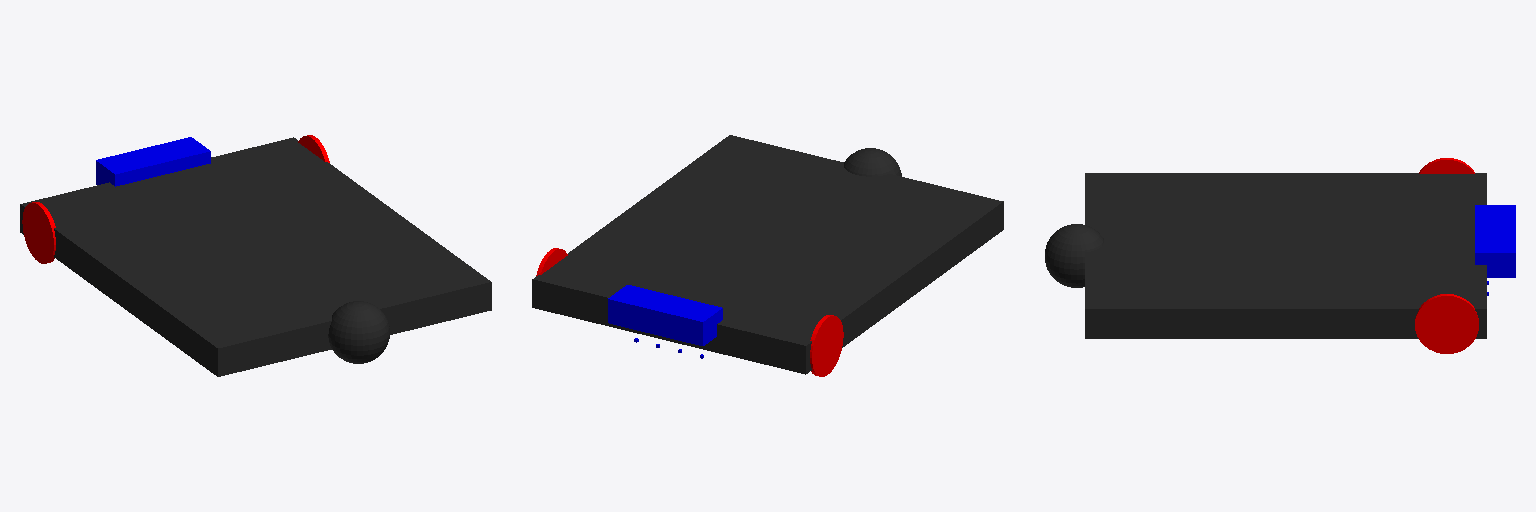
robot.urdf — wheel_robot_simple:
<robot name="wheel_robot_simple">
  <material name="grey">
    <color rgba="0.2 0.2 0.2 1.0"/>
  </material>
  <material name="red">
    <color rgba="1.0 0.0 0.0 1.0"/>
  </material>
  <material name="blue">
    <color rgba="0.0 0.0 1.0 1.0"/>
  </material> 

  <link name="base_link"/>

  <joint name="body_joint" type="fixed">
    <origin xyz="-0.6 -0.8 0.4" rpy="0.0 0.0 1.5708"/>
    <parent link="base_link"/>
    <child link="body_link"/>
  </joint>

  <link name="body_link">
    <visual>
      <geometry>
        <box size="0.25 0.2 0.02"/>
      </geometry>
      <material name="grey"/>
    </visual>
    <collision>
      <geometry>
        <box size="0.25 0.2 0.02"/>
      </geometry>
    </collision>
    <inertial>
      <mass value="0.7"/>
      <inertia ixx="0.008333333" ixy="0.0" ixz="0.0" iyy="0.014166667" iyz="0.0" izz="0.020833333"/>
    </inertial>
  </link>

  <joint name="back_ball_joint" type="fixed">
    <origin xyz="-0.13 0.0 0.0" rpy="0.0 0.0 0.0"/>
    <parent link="body_link"/>
    <child link="back_ball_link"/>
  </joint>

  <link name="back_ball_link">
    <visual>
      <geometry>
        <sphere radius="0.02"/>
      </geometry>
      <material name="grey"/>
    </visual>
    <collision>
      <geometry>
        <sphere radius="0.02"/>
      </geometry>
    </collision>
    <inertial>
      <mass value="0.095"/>
      <inertia ixx="0.0001" ixy="0.0" ixz="0.0" iyy="0.0001" iyz="0.0" izz="0.0001"/>
    </inertial>
  </link>

  <link name="sholder_base_link">
    <visual>
      <geometry>
        <mesh filename="file://[local-path]/ros2_ws/src/arm_detecting_controll/models/maze/DAE/sholder_base.dae" scale="1 1 1"/>
      </geometry>
      <material name="grey"/>
    </visual>
    <collision>
      <geometry>
        <mesh filename="file://[local-path]/ros2_ws/src/arm_detecting_controll/models/maze/STL/sholder_base.stl" scale="1 1 1"/>
      </geometry>
    </collision>
    <inertial>
      <mass value="0.060"/>
      <inertia ixx="0.0001" ixy="0.0" ixz="0.0" iyy="0.0001" iyz="0.0" izz="0.0001"/>
    </inertial>
  </link>

  <link name="sholder_link">
    <visual>
      <geometry>
        <mesh filename="file://[local-path]/ros2_ws/src/arm_detecting_controll/models/maze/DAE/sholder_link.dae" scale="1 1 1"/>
      </geometry>
      <material name="grey"/>
    </visual>
    <collision>
      <geometry>
        <mesh filename="file://[local-path]/ros2_ws/src/arm_detecting_controll/models/maze/STL/sholder_link.stl" scale="1 1 1"/>
      </geometry>
    </collision>
    <inertial>
      <mass value="0.060"/>
      <inertia ixx="0.0001" ixy="0.0" ixz="0.0" iyy="0.0001" iyz="0.0" izz="0.0001"/>
    </inertial>
  </link>

  <link name="elbow_link">
    <visual>
      <geometry>
        <mesh filename="file://[local-path]/ros2_ws/src/arm_detecting_controll/models/maze/DAE/elbow_link.dae" scale="1 1 1"/>
      </geometry>
      <material name="grey"/>
    </visual>
    <collision>
      <geometry>
        <mesh filename="file://[local-path]/ros2_ws/src/arm_detecting_controll/models/maze/STL/elbow_link.stl" scale="1 1 1"/>
      </geometry>
    </collision>
    <inertial>
      <mass value="0.220"/>
      <inertia ixx="0.0001" ixy="0.0" ixz="0.0" iyy="0.0001" iyz="0.0" izz="0.0001"/>
    </inertial>
  </link>

  <!-- ====================== -->
  <!--        JOINTS          -->
  <!-- ====================== -->

  <joint name="sholder_joint" type="fixed">
    <origin xyz="0 0 0.01" rpy="0.0 0.0 -1.5708"/>
    <parent link="body_link"/>
    <child link="sholder_base_link"/>
  </joint>

  <joint name="sholder_arm" type="revolute">
    <origin xyz="0 0.02 0.032" rpy="0.0 0.0 0.0"/>
    <parent link="sholder_base_link"/>
    <child link="sholder_link"/>
    <axis xyz="0 0 1"/>
    <limit lower="-1.5708" upper="1.5708" effort="20.0" velocity="10"/>
    <dynamics damping="0.1"/>
  </joint>

  <joint name="elbow_arm" type="revolute">
    <origin xyz="0 0 0.065" rpy="0.0 0.0 0.0"/>
    <parent link="sholder_link"/>
    <child link="elbow_link"/>
    <axis xyz="1 0 0"/>
    <limit lower="-3.1416" upper="1.8326" effort="20.0" velocity="10"/>
    <dynamics damping="0.1"/>
  </joint>

  <joint name="left_wheel_joint" type="continuous">
    <origin xyz="0.1 0.1 -0.0" rpy="-1.5707 0.0 0.0"/>
    <parent link="body_link"/>
    <child link="left_wheel_link"/>
    <axis xyz="0.0 0.0 1.0"/>
  </joint>

  <link name="left_wheel_link">
    <visual>
      <geometry>
        <cylinder radius="0.02" length="0.003"/>
      </geometry>
      <material name="red"/>
    </visual>
    <collision>
      <geometry>
        <cylinder radius="0.02" length="0.003"/>
      </geometry>
    </collision>
    <inertial>
      <mass value="0.120"/>
      <inertia ixx="0.000285867" ixy="0.0" ixz="0.0" iyy="0.000285867" iyz="0.0" izz="0.0005184"/>
    </inertial>
  </link>

  <joint name="right_wheel_joint" type="continuous">
    <origin xyz="0.1 -0.1 -0.0" rpy="1.5707 0.0 0.0"/>
    <parent link="body_link"/>
    <child link="right_wheel_link"/>
    <axis xyz="0.0 0.0 -1.0"/>
  </joint>

  <link name="right_wheel_link">
    <visual>
      <geometry>
        <cylinder radius="0.02" length="0.003"/>
      </geometry>
      <material name="red"/>
    </visual>
    <collision>
      <geometry>
        <cylinder radius="0.02" length="0.003"/>
      </geometry>
    </collision>
    <inertial>
      <mass value="0.120"/>
      <inertia ixx="0.000285867" ixy="0.0" ixz="0.0" iyy="0.000285867" iyz="0.0" izz="0.0005184"/>
    </inertial>
  </link>
  <gazebo>
    <plugin name="diff_drive" filename="libgazebo_ros_diff_drive.so ">
      <ros>
        <namespace>/wheel_robot_simple</namespace>
        <remapping>cmd_vel:=cmd_vel</remapping>
        <remapping>odom:=odom</remapping>
      </ros>
      <left_joint>left_wheel_joint</left_joint>
      <right_joint>right_wheel_joint</right_joint>
      <wheel_separation>0.2</wheel_separation>
      <wheel_diameter>0.072</wheel_diameter>
      <max_wheel_torque>20</max_wheel_torque>
      <max_wheel_acceleration>1.0</max_wheel_acceleration>
      <publish_odom>true</publish_odom>
      <publish_odom_tf>true</publish_odom_tf>
      <publish_wheel_tf>true</publish_wheel_tf>
      <update_rate>30</update_rate>
      <odometry_frame>odom</odometry_frame>
      <robot_base_frame>base_link</robot_base_frame>
    </plugin>
  </gazebo>

  <!-- ここからカメラ追加 -->

  <joint name="camera_joint" type="fixed">
    <origin xyz="0.13 0 0.01" rpy="0 0 0"/>
    <parent link="body_link"/>
    <child link="camera_link"/>
  </joint>

  <joint name="linetrace_joint2" type="fixed">
    <origin xyz="0.125 0.024 -0.015" rpy="0 1.5708 0"/>
    <parent link="body_link"/>
    <child link="linetrace_link2"/>
  </joint>
  <joint name="linetrace_joint3" type="fixed">
    <origin xyz="0.125 0.008 -0.015" rpy="0 1.5708 0"/>
    <parent link="body_link"/>
    <child link="linetrace_link3"/>
  </joint>

  <joint name="linetrace_joint4" type="fixed">
    <origin xyz="0.125 -0.008 -0.015" rpy="0 1.5708 0"/>
    <parent link="body_link"/>
    <child link="linetrace_link4"/>
  </joint>
  <joint name="linetrace_joint5" type="fixed">
    <origin xyz="0.125 -0.024 -0.015" rpy="0 1.5708 0"/>
    <parent link="body_link"/>
    <child link="linetrace_link5"/>
  </joint>


  <link name="camera_link">
    <visual>
      <geometry>
        <box size="0.025 0.07 0.017"/>
      </geometry>
      <material name="blue"/>
    </visual>
    <collision>
      <geometry>
        <box size="0.025 0.07 0.017"/>
      </geometry>
    </collision>
    <inertial>
      <mass value="0.070"/>
      <inertia ixx="0.0001" ixy="0.0" ixz="0.0" iyy="0.0001" iyz="0.0" izz="0.0001"/>
    </inertial>
  </link>

  <link name="linetrace_link2">
    <visual>
      <geometry>
        <box size="0.002 0.002 0.002"/>
      </geometry>
      <material name="blue"/>
    </visual>
    <collision>
      <geometry>
        <box size="0.002 0.002 0.002"/>
      </geometry>
    </collision>
    <inertial>
      <mass value="0.0001"/>
      <inertia ixx="0.0001" ixy="0.0" ixz="0.0" iyy="0.0001" iyz="0.0" izz="0.0001"/>
    </inertial>
  </link>
  
  <link name="linetrace_link3">
    <visual>
      <geometry>
        <box size="0.002 0.002 0.002"/>
      </geometry>
      <material name="blue"/>
    </visual>
    <collision>
      <geometry>
        <box size="0.002 0.002 0.002"/>
      </geometry>
    </collision>
    <inertial>
      <mass value="0.0001"/>
      <inertia ixx="0.0001" ixy="0.0" ixz="0.0" iyy="0.0001" iyz="0.0" izz="0.0001"/>
    </inertial>
  </link>
  
  <link name="linetrace_link4">
    <visual>
      <geometry>
        <box size="0.002 0.002 0.002"/>
      </geometry>
      <material name="blue"/>
    </visual>
    <collision>
      <geometry>
        <box size="0.002 0.002 0.002"/>
      </geometry>
    </collision>
    <inertial>
      <mass value="0.0001"/>
      <inertia ixx="0.0001" ixy="0.0" ixz="0.0" iyy="0.0001" iyz="0.0" izz="0.0001"/>
    </inertial>
  </link>

  <link name="linetrace_link5">
    <visual>
      <geometry>
        <box size="0.002 0.002 0.002"/>
      </geometry>
      <material name="blue"/>
    </visual>
    <collision>
      <geometry>
        <box size="0.002 0.002 0.002"/>
      </geometry>
    </collision>
    <inertial>
      <mass value="0.0001"/>
      <inertia ixx="0.0001" ixy="0.0" ixz="0.0" iyy="0.0001" iyz="0.0" izz="0.0001"/>
    </inertial>
  </link>


  <gazebo>
    <plugin filename="libgazebo_ros2_control.so" name="gazebo_ros2_control">
      <robot_sim_type>gazebo_ros2_control/GazeboSystem</robot_sim_type>
      <parameters>[local-path]/ros2_ws/src/arm_detecting_controll/config/rdc_arm.yaml</parameters>
    </plugin>
  </gazebo>

  <ros2_control name="GazeboSystem" type="system">
    <hardware>
      <plugin>gazebo_ros2_control/GazeboSystem</plugin>
    </hardware>
    <joint name="sholder_arm">
      <command_interface name="position">
        <param name="min">-3.14</param>
        <param name="max">3.14</param>
      </command_interface>
      <command_interface name="velocity">
        <param name="min">-3.15</param>
        <param name="max">3.15</param>
      </command_interface>
      <state_interface name="position"/>
      <state_interface name="velocity"/>
      <state_interface name="effort"/>
      <param name="initial_position">0.0</param>   
    </joint>
    <joint name="elbow_arm">
      <command_interface name="position">
        <param name="min">-3.14</param>
        <param name="max">3.14</param>
      </command_interface>
      <command_interface name="velocity">
        <param name="min">-3.15</param>
        <param name="max">3.15</param>
      </command_interface>
      <state_interface name="position"/>
      <state_interface name="velocity"/>
      <state_interface name="effort"/>
      <param name="initial_position">0.0</param>   
    </joint>
  </ros2_control>

  <gazebo reference="camera_link">
    <sensor name="camera_sensor" type="camera">
      <always_on>true</always_on>
      <update_rate>30.0</update_rate>
      <visualize>true</visualize>
      <camera>
        <horizontal_fov>0.9599</horizontal_fov>
        <image>
          <width>640</width>
          <height>480</height>
          <format>R8G8B8</format>
        </image>
        <clip>
          <near>0.1</near>
          <far>100</far>
        </clip>
      </camera>
      <plugin name="camera_controller" filename="libgazebo_ros_camera.so">
        <ros>
          <namespace>/wheel_robot_simple</namespace>
        </ros>
        <camera_name>camera</camera_name>
        <image_topic_name>image_raw</image_topic_name>
        <camera_info_topic_name>camera_info</camera_info_topic_name>
        <frame_name>camera_link</frame_name>
      </plugin>
    </sensor>
  </gazebo>
  
  <gazebo reference="linetrace_link2">
    <sensor name="linetrace_sensor2" type="camera">
      <always_on>true</always_on>
      <update_rate>30.0</update_rate>
      <visualize>true</visualize>
      <camera>
        <horizontal_fov>0.1745</horizontal_fov>
        <image>
          <width>320</width>
          <height>240</height>
          <format>R8G8B8</format>
        </image>
        <clip>
          <near>0.001</near>
          <far>0.05</far>
        </clip>
      </camera>
      <plugin name="linetrace_sensor2" filename="libgazebo_ros_camera.so">
        <ros>
          <namespace>/wheel_robot_simple</namespace>
        </ros>
        <camera_name>linetrace2</camera_name>
        <image_topic_name>linetrace2/image_raw</image_topic_name>
        <camera_info_topic_name>linetrace2/camera_info</camera_info_topic_name>
        <frame_name>linetrace_link2</frame_name>
      </plugin>
    </sensor>
  </gazebo>

  <gazebo reference="linetrace_link3">
    <sensor name="linetrace_sensor3" type="camera">
      <always_on>true</always_on>
      <update_rate>30.0</update_rate>
      <visualize>true</visualize>
      <camera>
        <horizontal_fov>0.1745</horizontal_fov>
        <image>
          <width>320</width>
          <height>240</height>
          <format>R8G8B8</format>
        </image>
        <clip>
          <near>0.001</near>
          <far>0.05</far>
        </clip>
      </camera>
      <plugin name="linetrace_sensor3" filename="libgazebo_ros_camera.so">
        <ros>
          <namespace>/wheel_robot_simple</namespace>
        </ros>
        <camera_name>linetrace3</camera_name>
        <image_topic_name>linetrace3/image_raw</image_topic_name>
        <camera_info_topic_name>linetrace3/camera_info</camera_info_topic_name>
        <frame_name>linetrace_link3</frame_name>
      </plugin>
    </sensor>
  </gazebo>

  <gazebo reference="linetrace_link4">
    <sensor name="linetrace_sensor4" type="camera">
      <always_on>true</always_on>
      <update_rate>30.0</update_rate>
      <visualize>true</visualize>
      <camera>
        <horizontal_fov>0.1745</horizontal_fov>
        <image>
          <width>320</width>
          <height>240</height>
          <format>R8G8B8</format>
        </image>
        <clip>
          <near>0.001</near>
          <far>0.05</far>
        </clip>
      </camera>
      <plugin name="linetrace_sensor4" filename="libgazebo_ros_camera.so">
        <ros>
          <namespace>/wheel_robot_simple</namespace>
        </ros>
        <camera_name>linetrace4</camera_name>
        <image_topic_name>linetrace4/image_raw</image_topic_name>
        <camera_info_topic_name>linetrace4/camera_info</camera_info_topic_name>
        <frame_name>linetrace_link4</frame_name>
      </plugin>
    </sensor>
  </gazebo>
  
  <gazebo reference="linetrace_link5">
    <sensor name="linetrace_sensor5" type="camera">
      <always_on>true</always_on>
      <update_rate>30.0</update_rate>
      <visualize>true</visualize>
      <camera>
        <horizontal_fov>0.1745</horizontal_fov>
        <image>
          <width>320</width>
          <height>240</height>
          <format>R8G8B8</format>
        </image>
        <clip>
          <near>0.001</near>
          <far>0.05</far>
        </clip>
      </camera>
      <plugin name="linetrace_sensor5" filename="libgazebo_ros_camera.so">
        <ros>
          <namespace>/wheel_robot_simple</namespace>
        </ros>
        <camera_name>linetrace5</camera_name>
        <image_topic_name>linetrace5/image_raw</image_topic_name>
        <camera_info_topic_name>linetrace5/camera_info</camera_info_topic_name>
        <frame_name>linetrace_link5</frame_name>
      </plugin>
    </sensor>
  </gazebo>

  <gazebo reference="elbow_link">
    <plugin name="vacuum_gripper" filename="libgazebo_ros_vacuum_gripper.so">
      <ros>
        <namespace>/vacuum_gripper</namespace>
      </ros>
      <link_name>elbow_link</link_name>
      <max_force>1000</max_force>
      <max_distance>200.0</max_distance>
    </plugin>
  </gazebo>


</robot>

--- Facts derived from the render (not from the file) ---
Views: 3 orthographic renders of the robot side by side, from view 1: azimuth 30°, elevation 25°; view 2: azimuth 150°, elevation 25°; view 3: azimuth 270°, elevation 25°.
Model wheel_robot_simple with 13 links and 12 joints (2 revolute, 2 continuous, 8 fixed), rooted at base_link, posed all joints at 0.
Links seen in each view (by area): view 1: body_link, camera_link, back_ball_link, left_wheel_link; view 2: body_link, camera_link, left_wheel_link, back_ball_link; view 3: body_link, right_wheel_link, camera_link, back_ball_link, left_wheel_link.
Link boxes in pixels (<box>): body_link: <box>20,137,491,376</box>; camera_link: <box>96,137,210,186</box>; back_ball_link: <box>328,301,389,363</box>; left_wheel_link: <box>22,202,55,263</box>; body_link: <box>532,135,1003,374</box>; camera_link: <box>608,285,722,345</box>; left_wheel_link: <box>810,315,843,376</box>; back_ball_link: <box>844,148,901,176</box>; body_link: <box>1085,173,1486,338</box>; right_wheel_link: <box>1415,294,1478,353</box>; camera_link: <box>1475,205,1515,277</box>; back_ball_link: <box>1045,224,1103,287</box>; left_wheel_link: <box>1419,158,1474,173</box>.
Bounding box of the posed robot: 0.203 × 0.2925 × 0.04 m (x, y, z).
Geometry: only primitive shapes (box / cylinder / sphere) drawn; not drawn: 3 mesh visuals (reference in a form the renderer does not follow).
